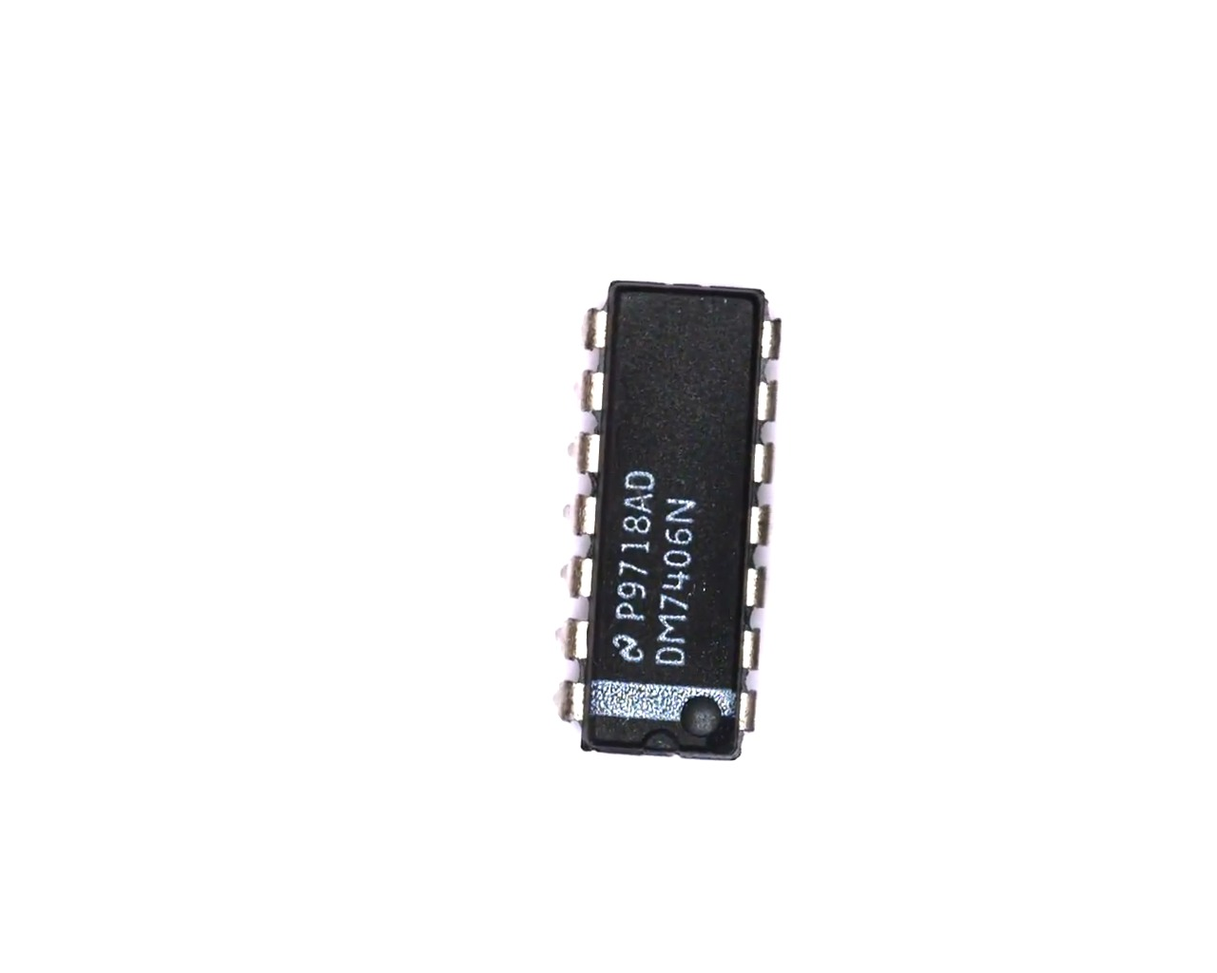IC: (549, 266, 793, 780)
notch: (632, 722, 676, 762)
